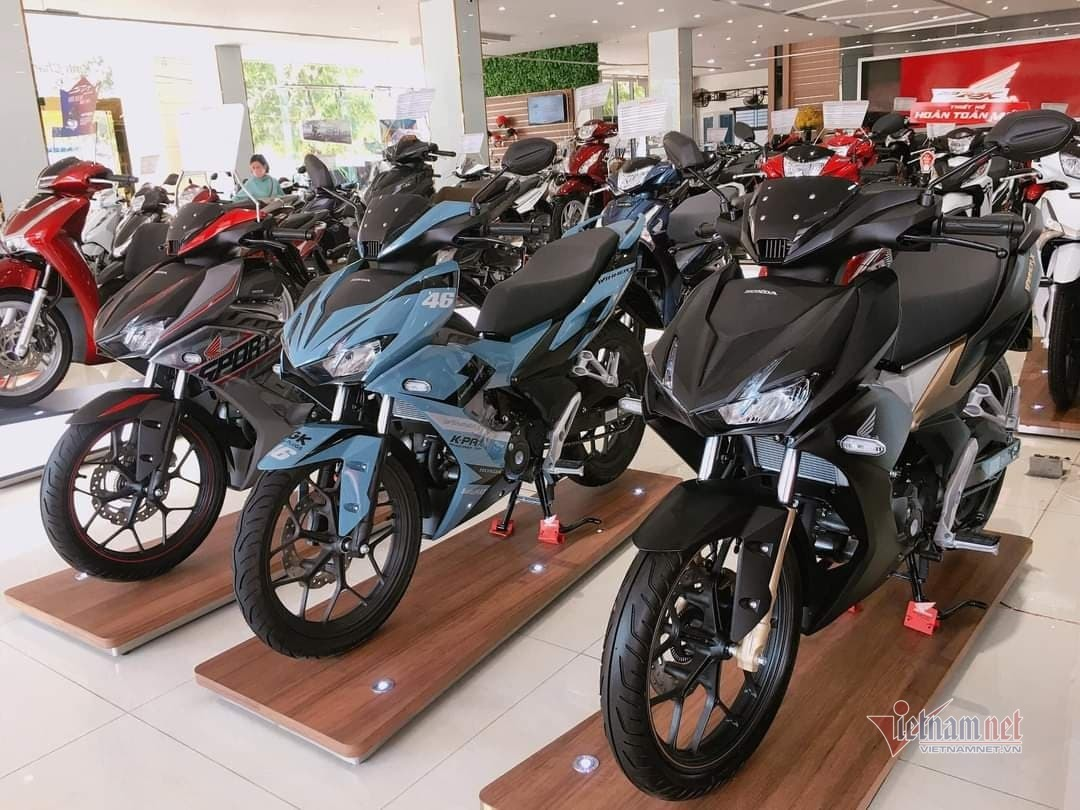motobicycle: (599, 108, 1076, 803), (236, 137, 649, 659), (41, 194, 286, 584), (3, 145, 103, 394), (1034, 116, 1080, 413), (599, 144, 673, 282), (922, 121, 1010, 221), (554, 115, 611, 236), (751, 146, 871, 194), (115, 177, 160, 259), (87, 187, 126, 256)
person: (239, 152, 278, 206)
